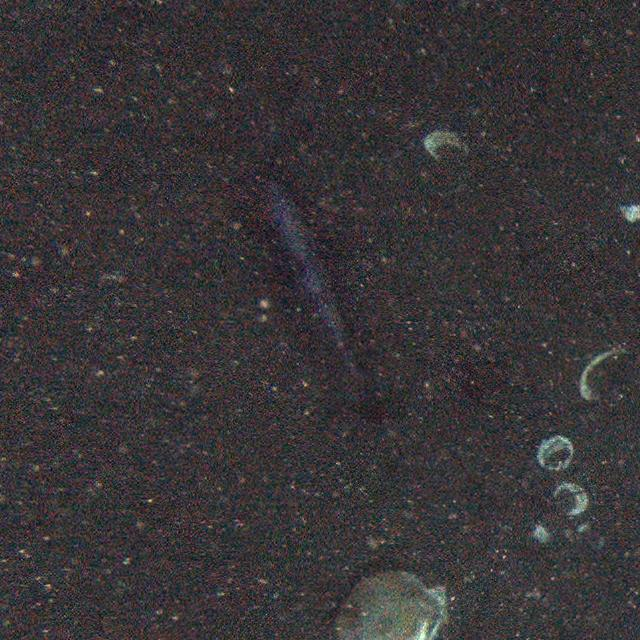roundfish: (249, 175, 392, 416)
